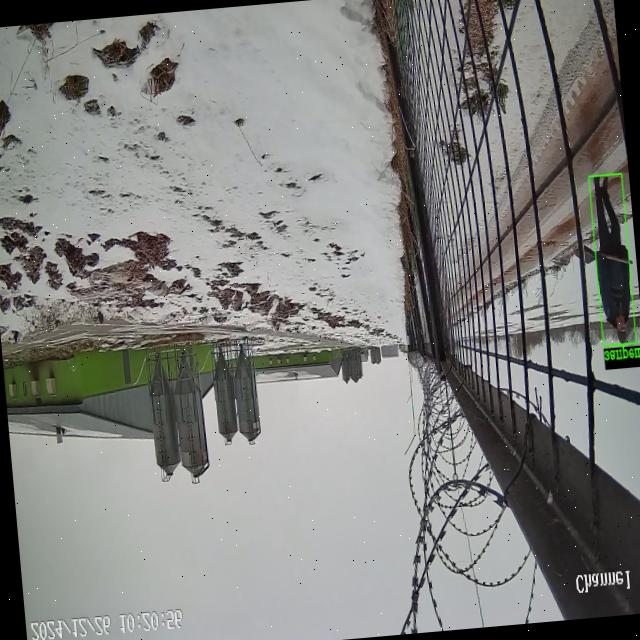Person: (593, 177, 630, 342)
